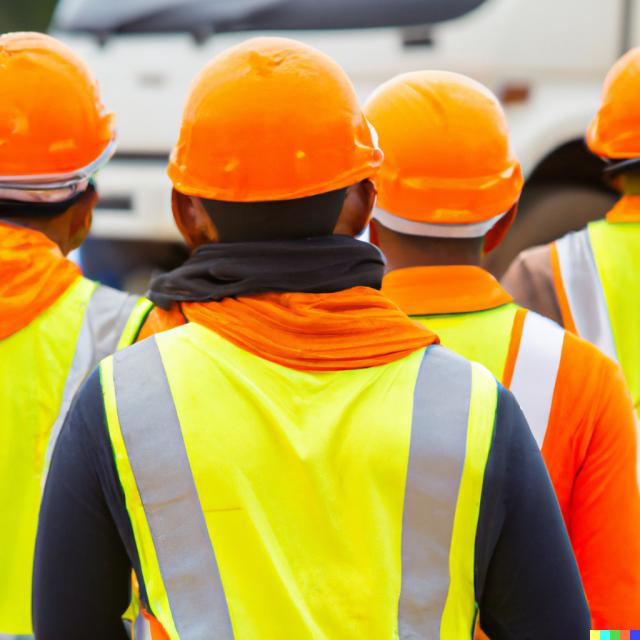Reflective-Jacket: (92, 280, 508, 634), (0, 210, 112, 640), (549, 199, 640, 629)
Safety-Helmet: (163, 36, 385, 202), (360, 67, 524, 234), (0, 31, 121, 181), (583, 37, 639, 164)
